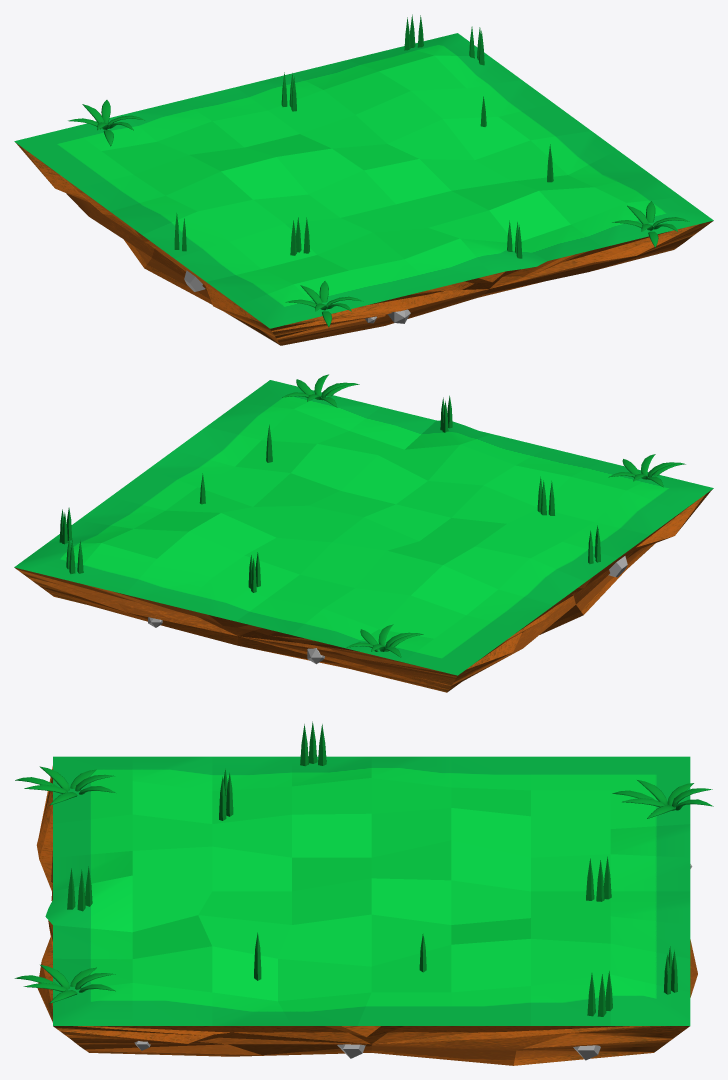
Rendered from grassvariation3.fbx.
The picture shows the model from 3 angles, top to bottom: view 1: azimuth 30°, elevation 25°; view 2: azimuth 150°, elevation 25°; view 3: azimuth 270°, elevation 25°; orthographic projection. The views are drawn at different scales.
Visible parts, largest first — view 1: pCube1, GrassesGRPpolySurface493, GrassesGRPpolySurface482, GrassesGRPpolySurface495; view 2: pCube1, GrassesGRPpolySurface493, GrassesGRPpolySurface482, GrassesGRPpolySurface495; view 3: pCube1, GrassesGRPpolySurface493, GrassesGRPpolySurface482, GrassesGRPpolySurface495.
Part boxes in pixels (x1,y1,x2,y2): pCube1: (14, 33, 713, 345); GrassesGRPpolySurface493: (68, 100, 144, 146); GrassesGRPpolySurface482: (612, 201, 689, 247); GrassesGRPpolySurface495: (285, 281, 363, 327); pCube1: (14, 380, 713, 692); GrassesGRPpolySurface493: (346, 624, 423, 657); GrassesGRPpolySurface482: (282, 374, 359, 407); GrassesGRPpolySurface495: (608, 454, 685, 487); pCube1: (36, 756, 697, 1065); GrassesGRPpolySurface493: (612, 780, 713, 818); GrassesGRPpolySurface482: (14, 964, 115, 1003); GrassesGRPpolySurface495: (15, 766, 115, 805).
Bounding box in the file's own units: 101 × 14.79 × 108.
4 materials, 2 textured.
